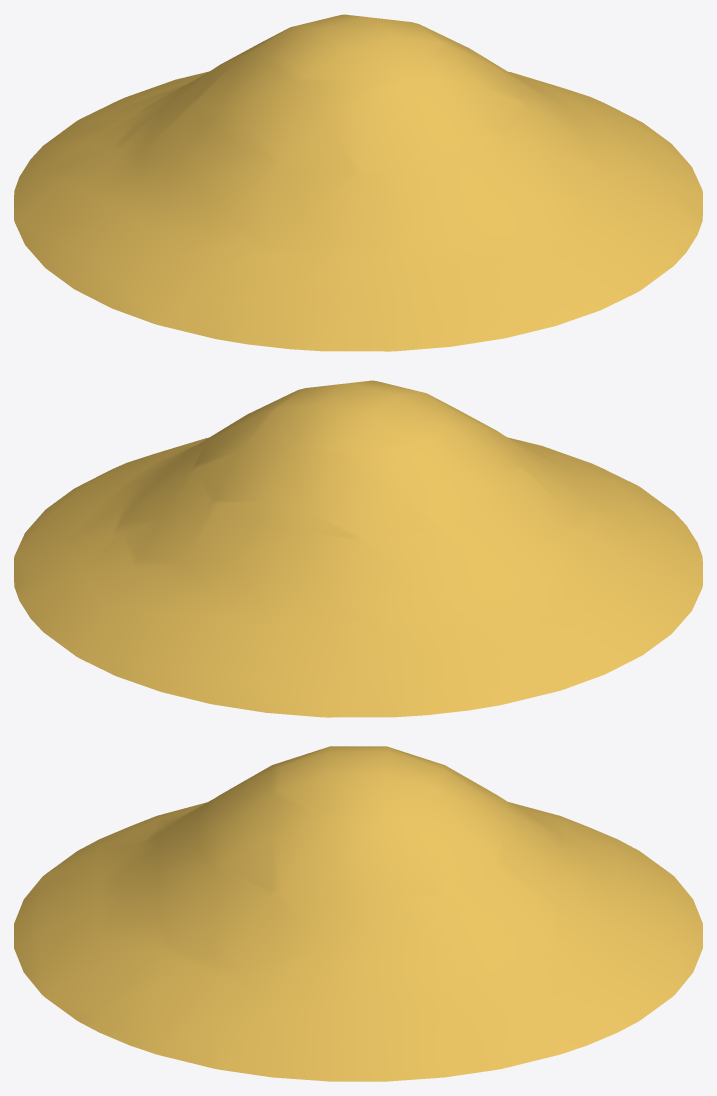
File: sandPile.fbx
3 views of the same model, one above another, from view 1: azimuth 30°, elevation 25°; view 2: azimuth 150°, elevation 25°; view 3: azimuth 270°, elevation 25° (orthographic).
Parts seen in each view (by area): view 1: Sand Pile; view 2: Sand Pile; view 3: Sand Pile.
Part boxes in pixels (x1=…): Sand Pile: x1=14, y1=14, x2=702, y2=351; Sand Pile: x1=14, y1=380, x2=702, y2=717; Sand Pile: x1=14, y1=746, x2=702, y2=1081.
Size of the model in its own units: 63.52 by 63.52 by 17.47.
